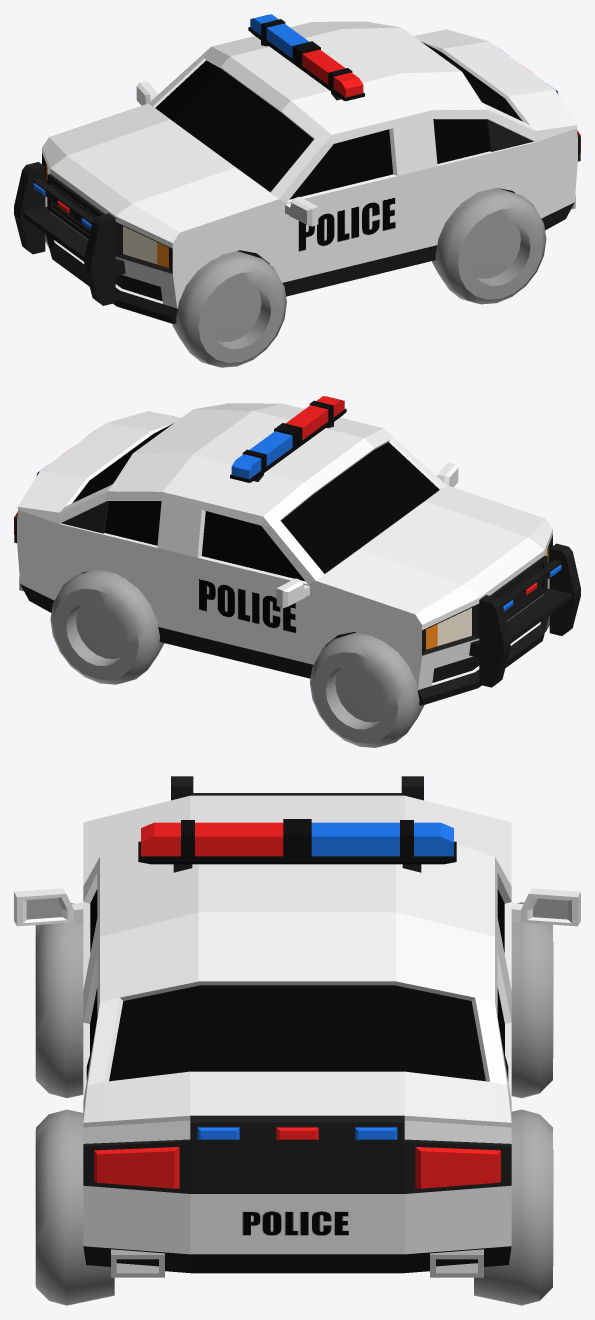
Rendered from car_police.fbx.
The picture shows the model from 3 angles, top to bottom: view 1: azimuth 30°, elevation 25°; view 2: azimuth 150°, elevation 25°; view 3: azimuth 270°, elevation 25°; orthographic projection. The views are drawn at different scales.
Parts seen in each view (by area): view 1: polySurface1207; view 2: polySurface1207; view 3: polySurface1207.
Boxes of the visible parts, x1=… form: polySurface1207: x1=14, y1=14, x2=580, y2=367; polySurface1207: x1=14, y1=396, x2=580, y2=747; polySurface1207: x1=14, y1=776, x2=580, y2=1305.
Bounding box in the file's own units: 354 × 165 × 223.
3 materials, 1 textured.
